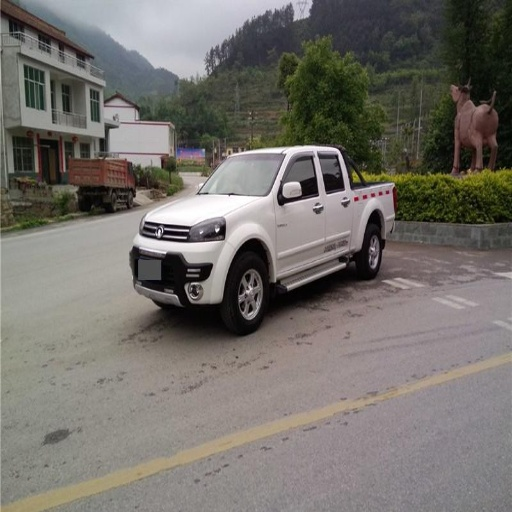front_bumper: (127, 215, 236, 304)
front_glass: (198, 154, 281, 194)
front_left_door: (277, 151, 326, 272)
trunk: (354, 184, 397, 235)
